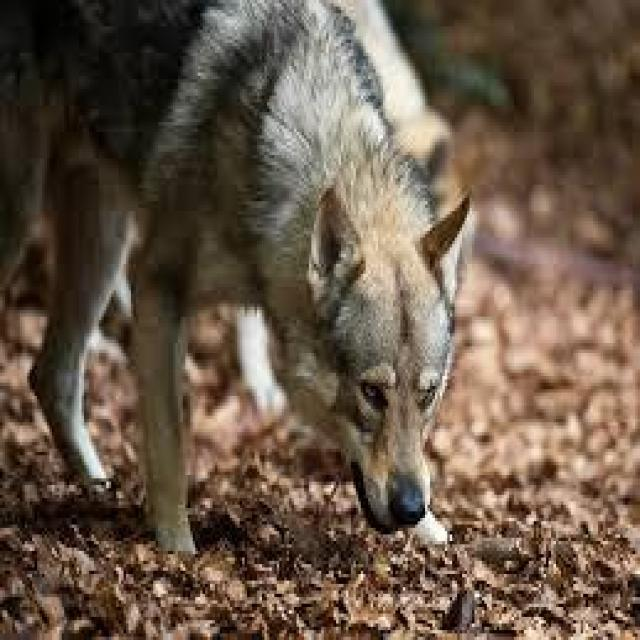Dog: (6, 4, 634, 639)
